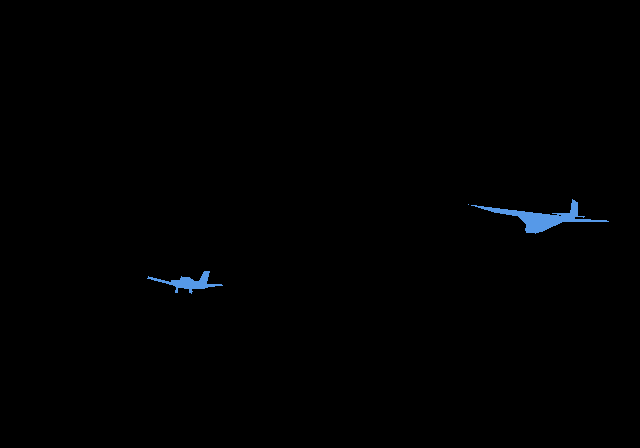Airplane: (468, 199, 608, 234), (147, 271, 222, 293)
